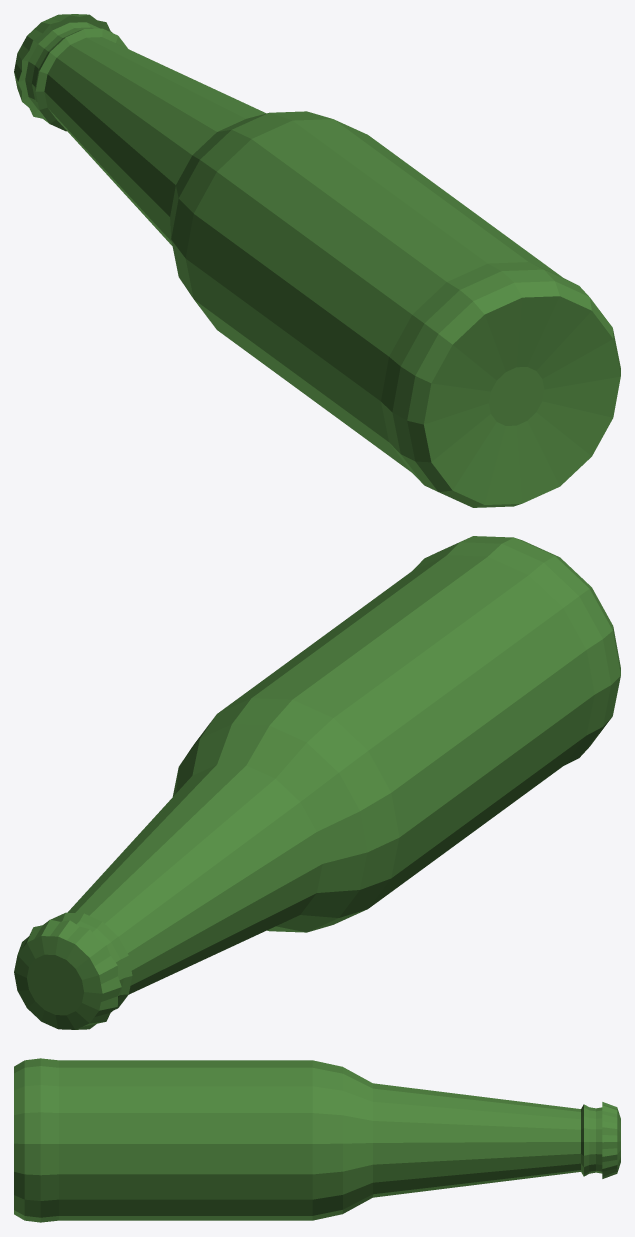
The model's file is beer.fbx.
The picture shows the model from 3 angles, top to bottom: view 1: azimuth 30°, elevation 25°; view 2: azimuth 150°, elevation 25°; view 3: azimuth 270°, elevation 25°; orthographic projection. The views are drawn at different scales.
Parts seen in each view (by area): view 1: BeerBottle; view 2: BeerBottle; view 3: BeerBottle.
Part boxes in pixels (left/top/right/bottom): BeerBottle: left=14, top=14, right=620, bottom=507; BeerBottle: left=14, top=536, right=620, bottom=1029; BeerBottle: left=14, top=1058, right=620, bottom=1222.
Bounding box in the file's own units: 205 × 205 × 756.
